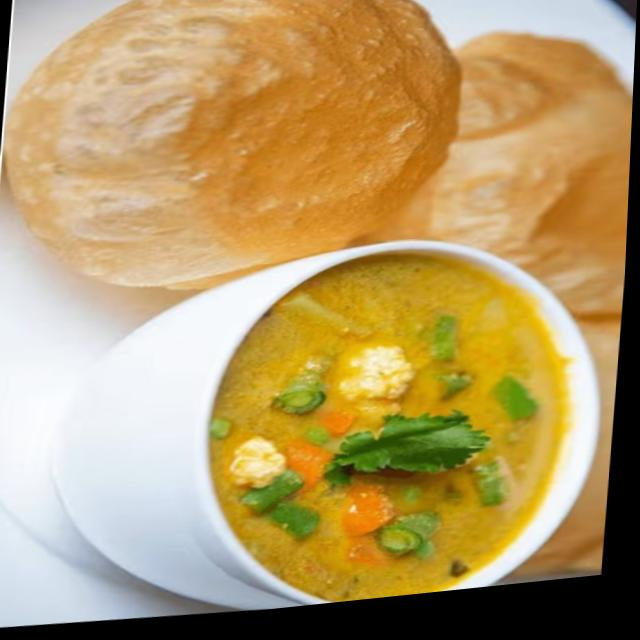POORI: (0, 0, 633, 576)
SAMBAR: (206, 253, 567, 602)
